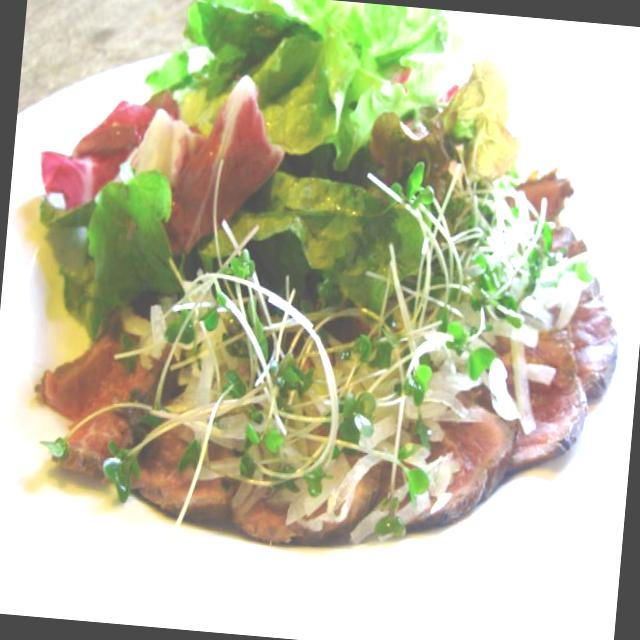Green Salad: (67, 30, 567, 512)
